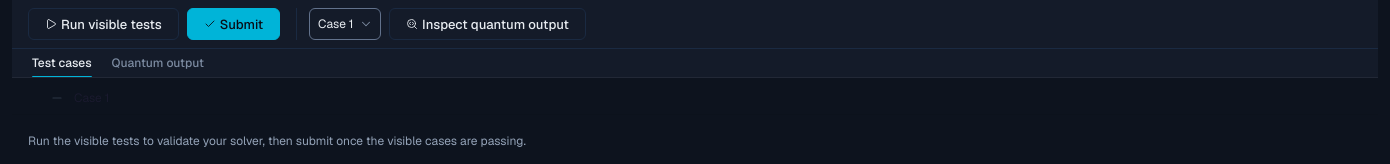
it: TestRunner verdict › reserves the verdict pill for Submit and reports pass counts for visible runs
Click the button "Run visible tests" at point(103, 24), box [28,8,179,40]
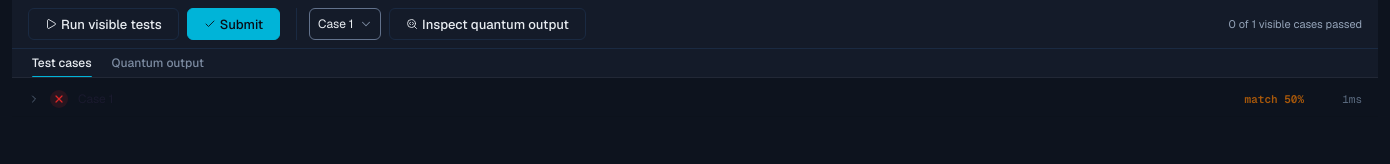
Expected: the text "Wrong answer" is not shown
Expected: the message reads "0 of 1 visible cases passed", [1229,17,1362,31]
Click the button "Submit" at point(233, 24), box [187,8,280,40]
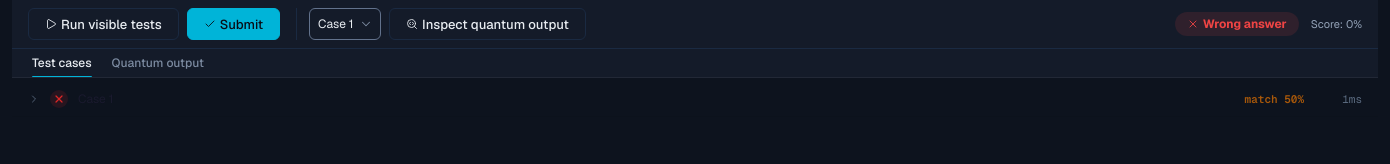
Expected: the message shows "Wrong answer", [1203,16,1287,32]
